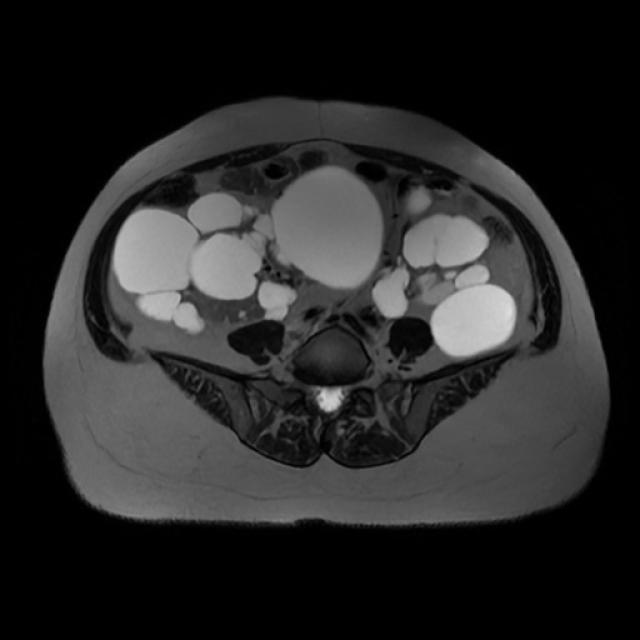sag: (114, 165, 382, 331)
sol: (374, 188, 516, 355)
